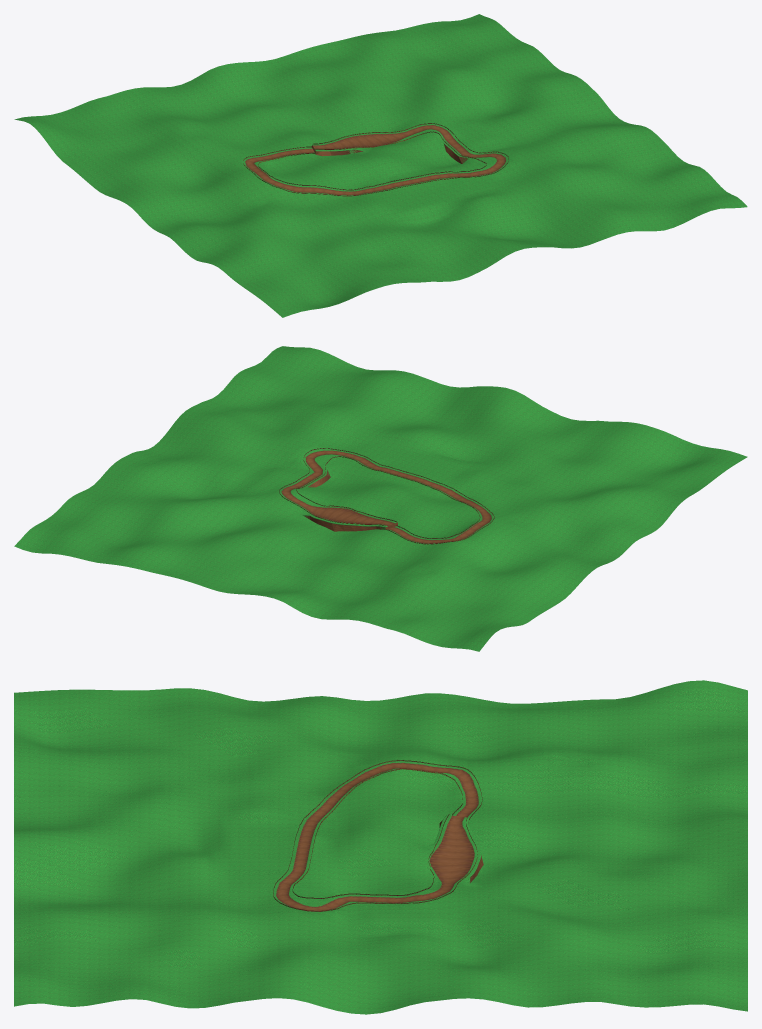
The model's file is Sjin'sFarmTest3(OLD).fbx.
The picture shows the model from 3 angles, top to bottom: view 1: azimuth 30°, elevation 25°; view 2: azimuth 150°, elevation 25°; view 3: azimuth 270°, elevation 25°; orthographic projection. The views are drawn at different scales.
Parts seen in each view (by area): view 1: Road, Railing, Railing2; view 2: Road, Railing; view 3: Road, Railing, Railing2.
Part boxes in pixels (left/top/right/bottom): Road: left=14, top=14, right=747, bottom=317; Railing: left=243, top=123, right=508, bottom=196; Railing2: left=258, top=131, right=486, bottom=190; Road: left=14, top=346, right=747, bottom=651; Railing: left=279, top=448, right=494, bottom=544; Road: left=14, top=680, right=747, bottom=1014; Railing: left=273, top=760, right=482, bottom=911; Railing2: left=292, top=768, right=462, bottom=898.
Size of the model in its own units: 13464 by 553 by 13464.
